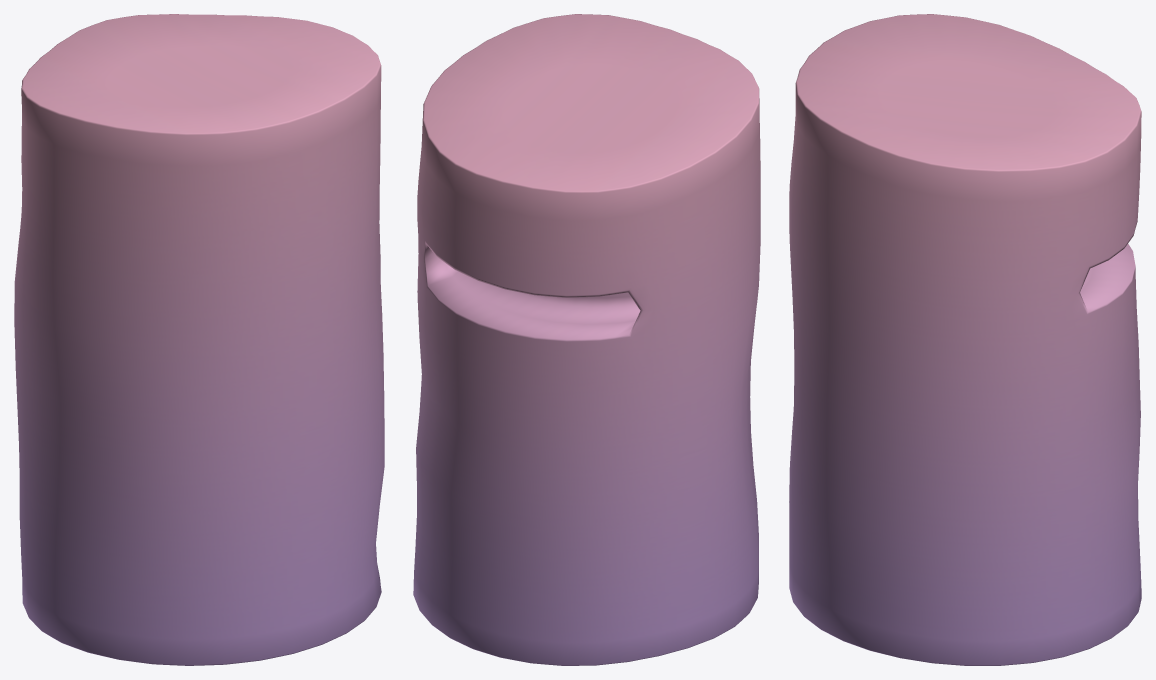
The model's file is Lixo_Amassando_2.fbx.
3 renders of one model, left to right at view 1: azimuth 30°, elevation 25°; view 2: azimuth 150°, elevation 25°; view 3: azimuth 270°, elevation 25°, orthographic. The views are drawn at different scales.
Visible parts, largest first — view 1: Cylinder.003; view 2: Cylinder.003; view 3: Cylinder.003.
Boxes of the visible parts, <box> form: Cylinder.003: <box>14,14,384,665</box>; Cylinder.003: <box>413,14,760,665</box>; Cylinder.003: <box>789,14,1141,665</box>.
Bounding box in the file's own units: 149 × 242 × 148.
Materials: 1 (1 with a texture image).
